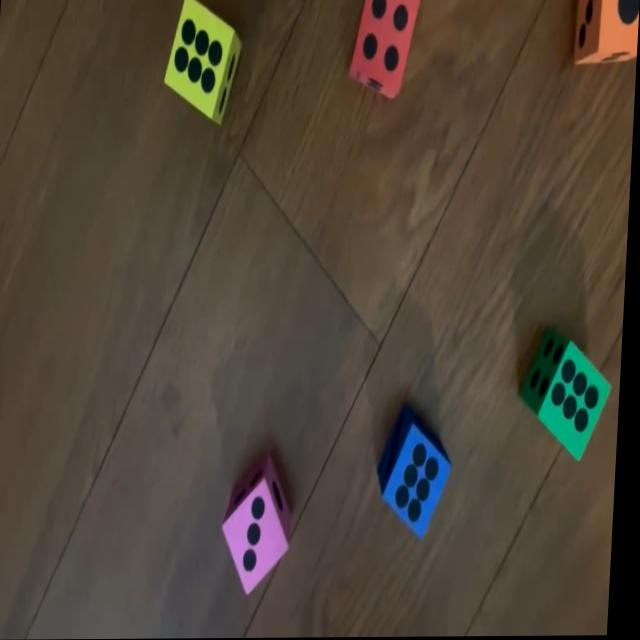blue_block: (379, 404, 459, 540)
red_block: (347, 0, 421, 97)
